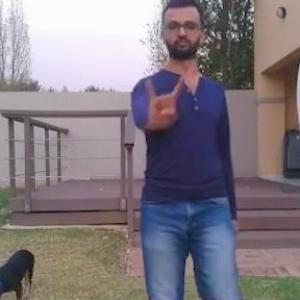takeoff-hand: (138, 65, 188, 129)
